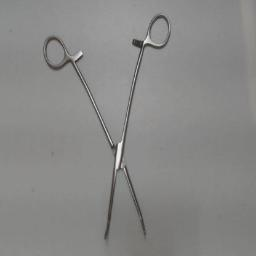Lahey Forceps: (39, 8, 173, 242)
